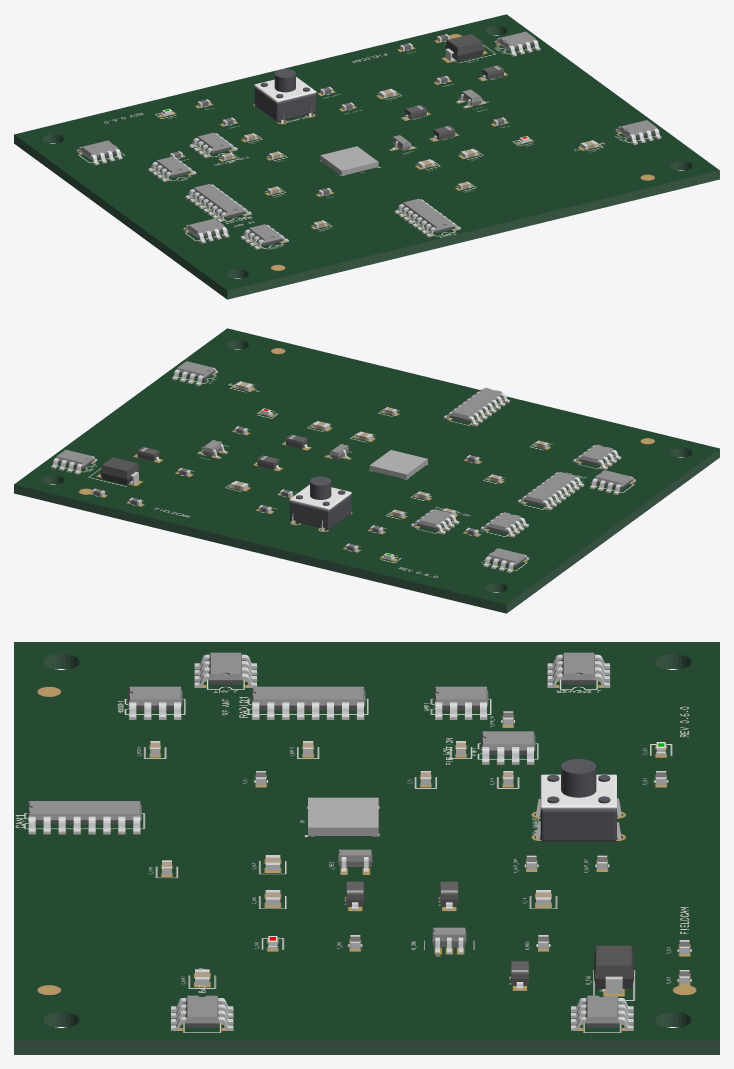
The model's file is fieldcam.glb.
The picture shows the model from 3 angles, top to bottom: view 1: azimuth 30°, elevation 25°; view 2: azimuth 150°, elevation 25°; view 3: azimuth 270°, elevation 25°; orthographic projection. The views are drawn at different scales.
Visible parts, largest first — view 1: Box0, SW_WAKE, CAM1, RADIO1, U1, D_TVS, AMP1, PIR1, MODEM1, J_SPEAKER, J_ANT, J_USBC (+1 smaller); view 2: Box0, SW_WAKE, RADIO1, CAM1, U1, D_TVS, AMP1, PIR1, MODEM1, J_USBC, J_ANT, J_BATT (+1 smaller); view 3: Box0, SW_WAKE, RADIO1, CAM1, U1, J_SPEAKER, J_ANT, J_USBC, J_BATT, D_TVS, MODEM1, AMP1 (+3 smaller).
Boxes of the visible parts, box(x1,y1,x2,y2) form: Box0: box(14, 14, 719, 299); SW_WAKE: box(254, 69, 316, 123); CAM1: box(394, 198, 460, 237); RADIO1: box(185, 183, 251, 222); U1: box(320, 146, 378, 175); D_TVS: box(445, 34, 484, 61); AMP1: box(148, 156, 196, 181); PIR1: box(189, 132, 237, 157); MODEM1: box(240, 224, 288, 249); J_SPEAKER: box(76, 140, 122, 165); J_ANT: box(183, 218, 229, 243); J_USBC: box(494, 31, 540, 56); Box0: box(14, 328, 719, 613); SW_WAKE: box(289, 476, 351, 531); RADIO1: box(518, 472, 584, 510); CAM1: box(443, 387, 509, 426); U1: box(369, 450, 427, 479); D_TVS: box(100, 457, 139, 484); AMP1: box(480, 512, 528, 537); PIR1: box(411, 509, 459, 534); MODEM1: box(573, 444, 621, 469); J_USBC: box(51, 449, 97, 474); J_ANT: box(590, 470, 635, 494); J_BATT: box(172, 361, 217, 385); Box0: box(14, 642, 719, 1054); SW_WAKE: box(535, 759, 621, 841); RADIO1: box(251, 686, 365, 719); CAM1: box(27, 801, 141, 834); U1: box(308, 797, 378, 835); J_SPEAKER: box(547, 652, 609, 687); J_ANT: box(194, 652, 256, 687); J_USBC: box(571, 995, 633, 1030); J_BATT: box(171, 995, 233, 1030); D_TVS: box(594, 945, 633, 993); MODEM1: box(128, 686, 182, 719); AMP1: box(434, 686, 488, 719).
Bounding box in the file's own units: 80 × 9.49 × 60.
20 materials, 2 textured.
